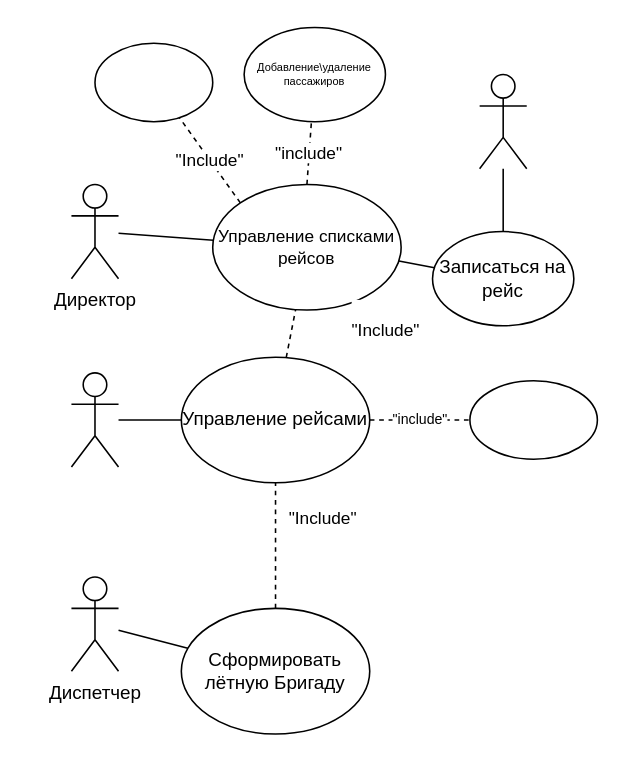
The diagram is 625 pixels wide and 761 high, and some of its shapes have lost their labels. Here are the shapes that lost their labels. From the top down, the centre of each, then its label:
At (x=153, y=82): "Создать \ удалить список рейсов".
At (x=502, y=121): "Клиент".
At (x=94, y=419): "Администратор".
At (x=532, y=419): "добавление \ удаление рейса".
